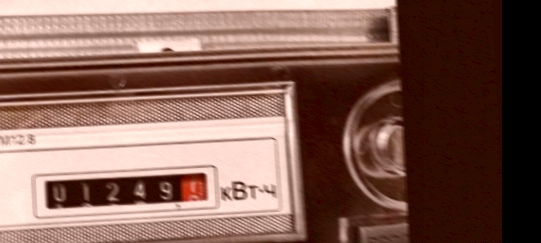0: (51, 182, 66, 203)
1: (78, 181, 91, 202)
2: (103, 180, 120, 203)
4: (132, 179, 146, 200)
7: (186, 173, 200, 194)
9: (158, 180, 172, 201)
screen: (28, 161, 222, 221)
